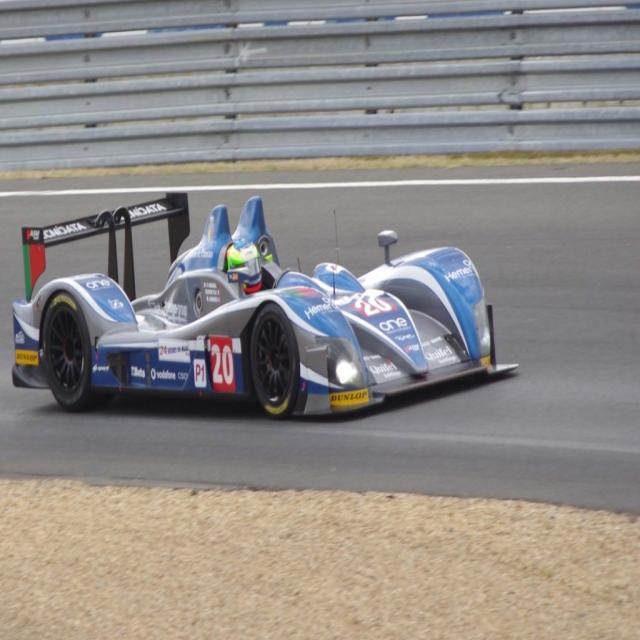car: (11, 188, 518, 421)
